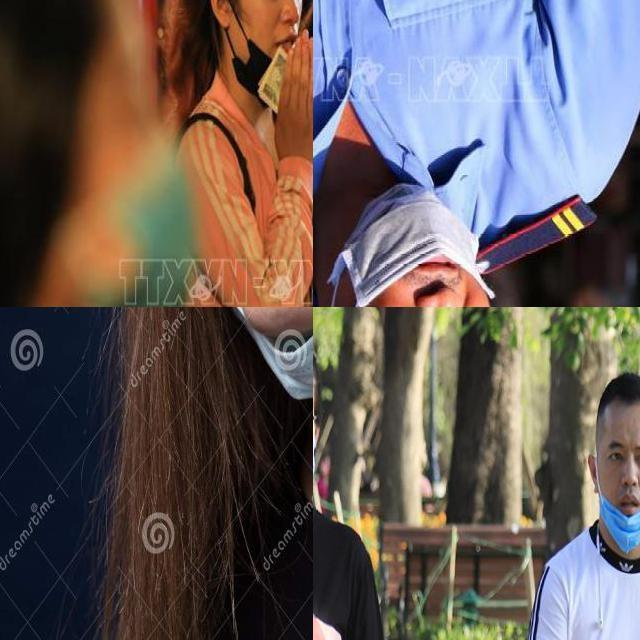hairnet: (340, 186, 495, 305), (223, 6, 299, 92), (598, 467, 640, 555)
